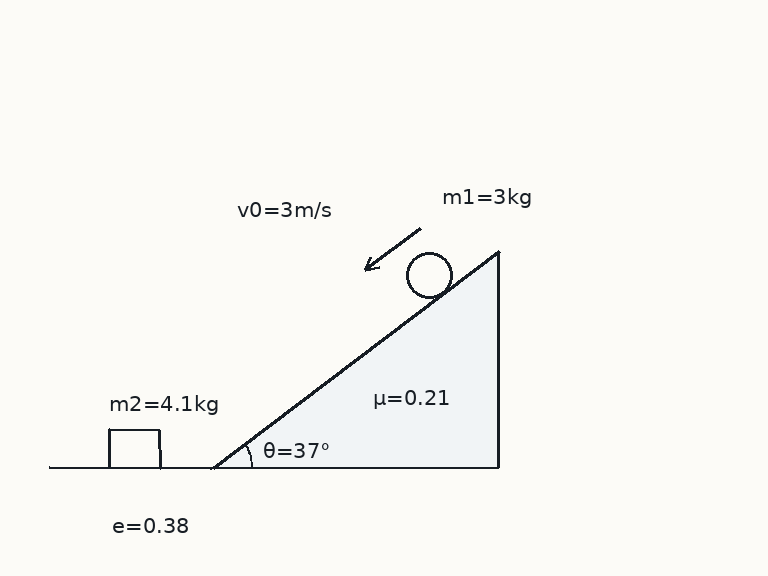ball: (404, 250, 454, 300)
block: (106, 428, 162, 469)
ramp: (210, 249, 501, 469)
